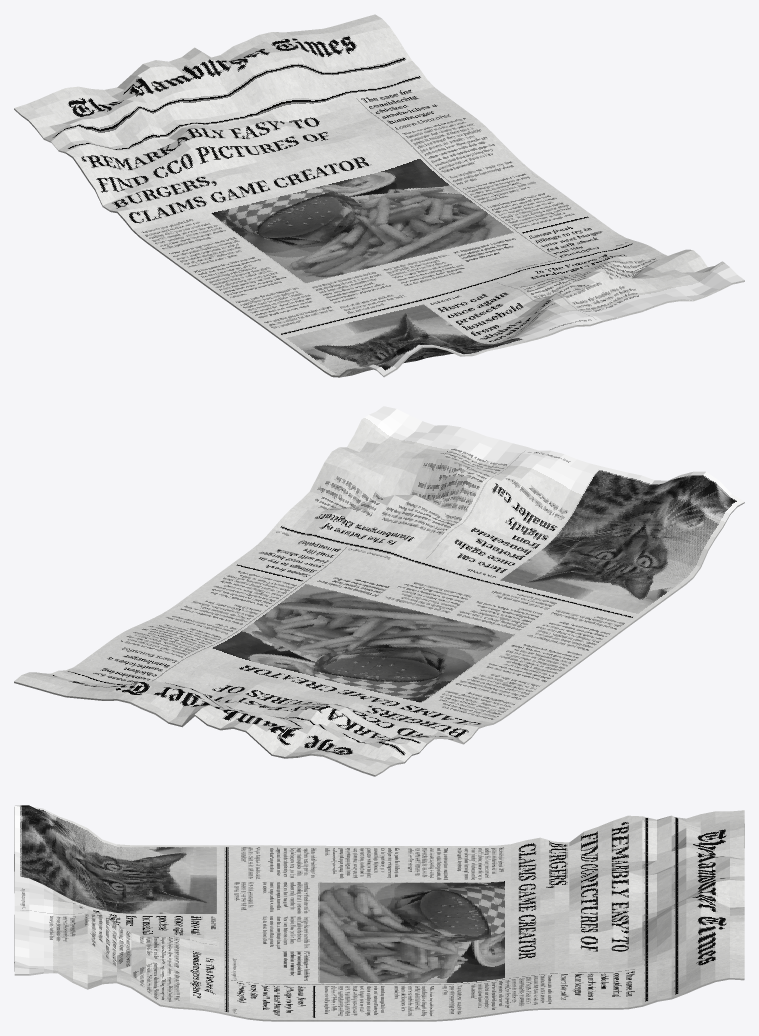
File: Paper-plate.glb
3 renders of one model, top to bottom at view 1: azimuth 30°, elevation 25°; view 2: azimuth 150°, elevation 25°; view 3: azimuth 270°, elevation 25°, orthographic.
Visible parts, largest first — view 1: Plane.001; view 2: Plane.001; view 3: Plane.001.
Boxes of the visible parts, x1=… form: Plane.001: x1=14, y1=14, x2=744, y2=377; Plane.001: x1=14, y1=406, x2=744, y2=776; Plane.001: x1=14, y1=805, x2=744, y2=1021.
Bounding box in the file's own units: 1.13 × 0.1833 × 2.
1 material, 1 textured.
